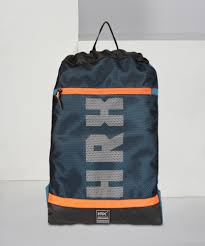backpack: (46, 20, 163, 225)
